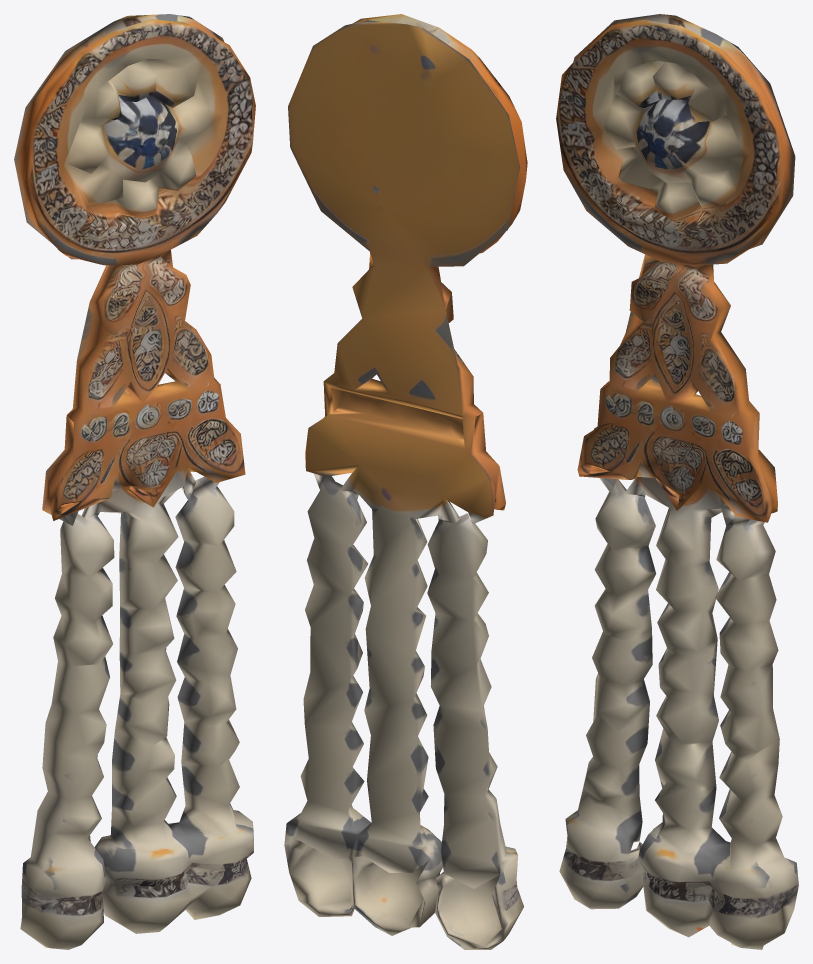
Rendered from Pearl.fbx.
3 renders of one model, left to right at view 1: azimuth 30°, elevation 25°; view 2: azimuth 150°, elevation 25°; view 3: azimuth 330°, elevation 25°, orthographic.
Visible parts, largest first — view 1: tripo_node_d39a0e45; view 2: tripo_node_d39a0e45; view 3: tripo_node_d39a0e45.
Part boxes in pixels (left/top/right/bottom): tripo_node_d39a0e45: left=14, top=14, right=255, bottom=949; tripo_node_d39a0e45: left=284, top=14, right=527, bottom=949; tripo_node_d39a0e45: left=556, top=14, right=798, bottom=949.
Size of the model in its own units: 0.267 by 1 by 0.064.
Materials: 1 (1 with a texture image).
